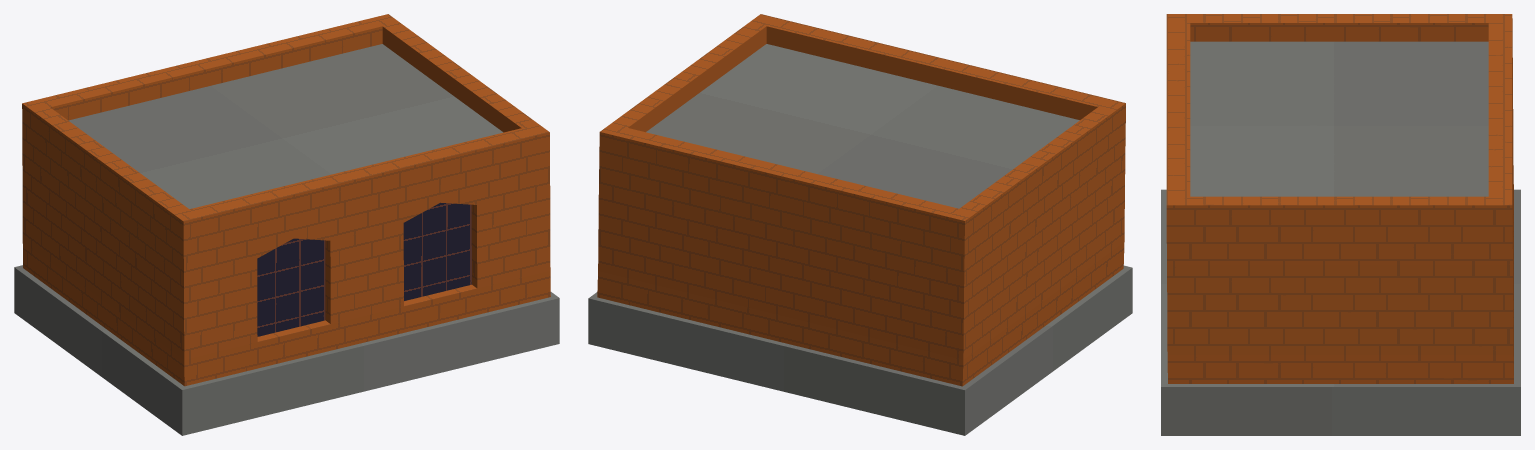
Rendered from SmallHouseSimplertest.fbx.
The picture shows the model from 3 angles, left to right: view 1: azimuth 30°, elevation 25°; view 2: azimuth 150°, elevation 25°; view 3: azimuth 270°, elevation 25°; orthographic projection. The views are drawn at different scales.
Parts seen in each view (by area): view 1: Cube; view 2: Cube; view 3: Cube.
Part boxes in pixels (box(x1,y1,x2,y2)): Cube: box(14, 14, 559, 435); Cube: box(588, 14, 1132, 435); Cube: box(1161, 14, 1520, 435).
Size of the model in its own units: 427 by 329 by 229.
